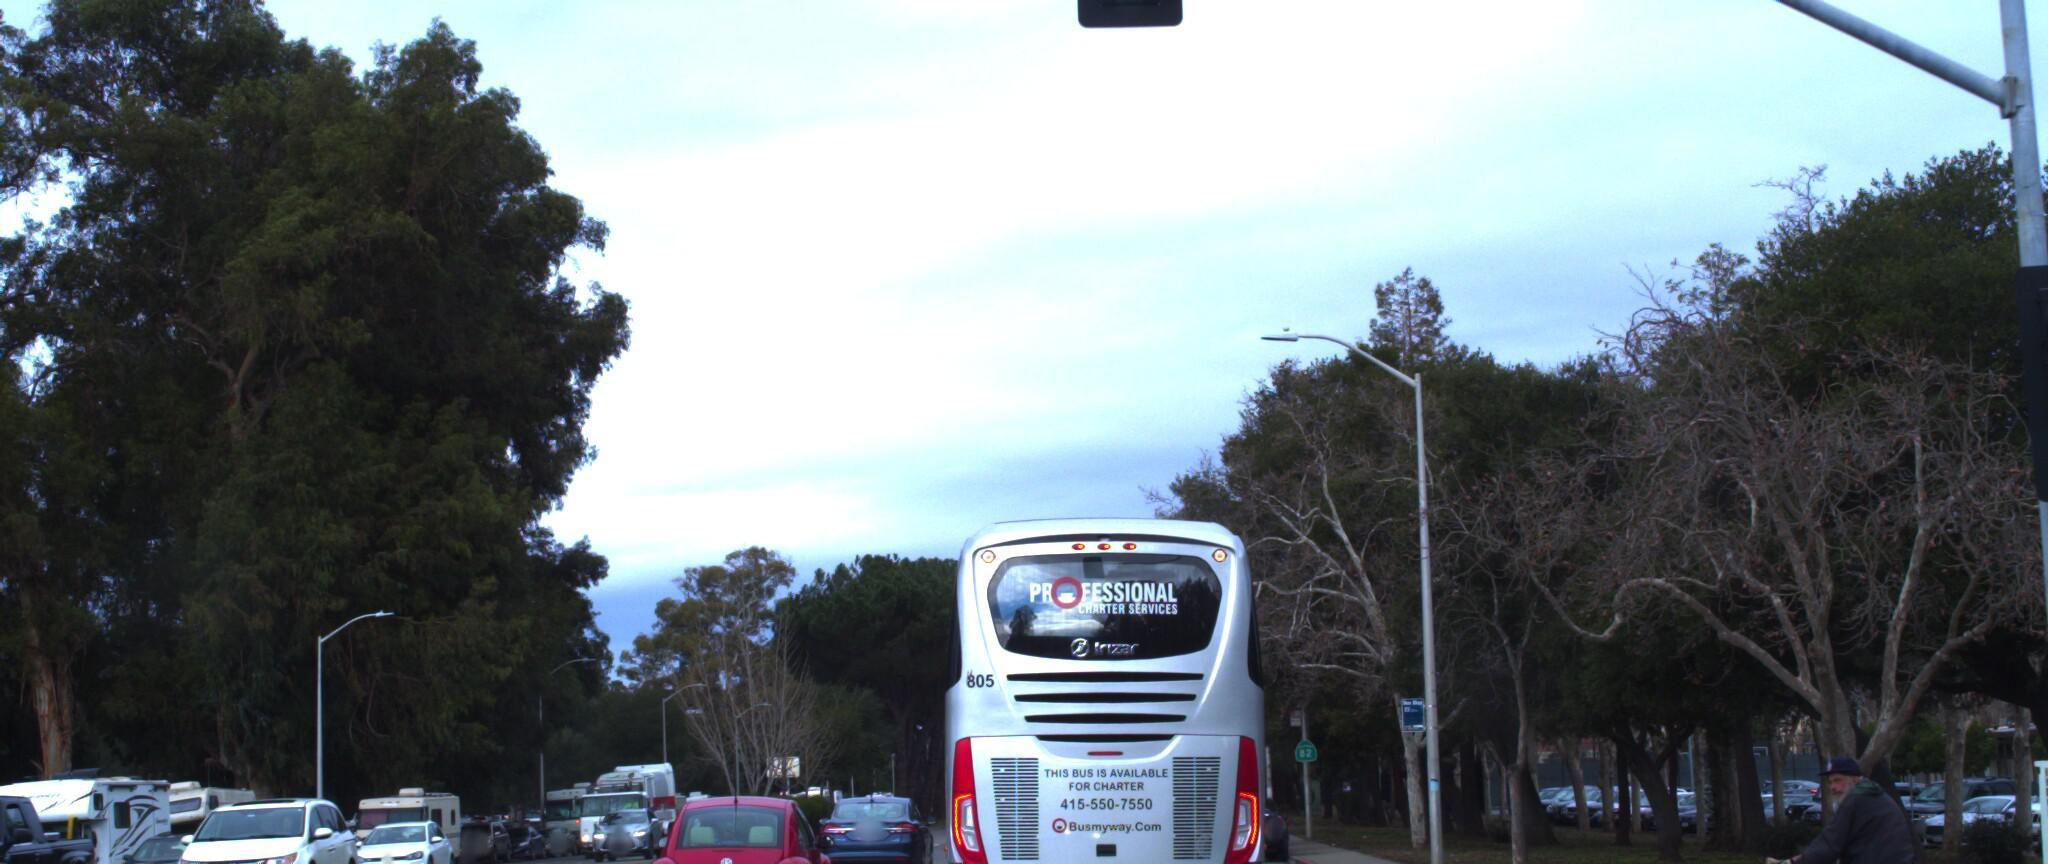bicycle: (1678, 727, 1971, 864)
bus: (916, 499, 1318, 864)
car: (159, 779, 379, 864), (631, 782, 850, 864), (0, 777, 121, 864), (344, 801, 458, 864)
other_vehicle: (0, 747, 183, 864)
